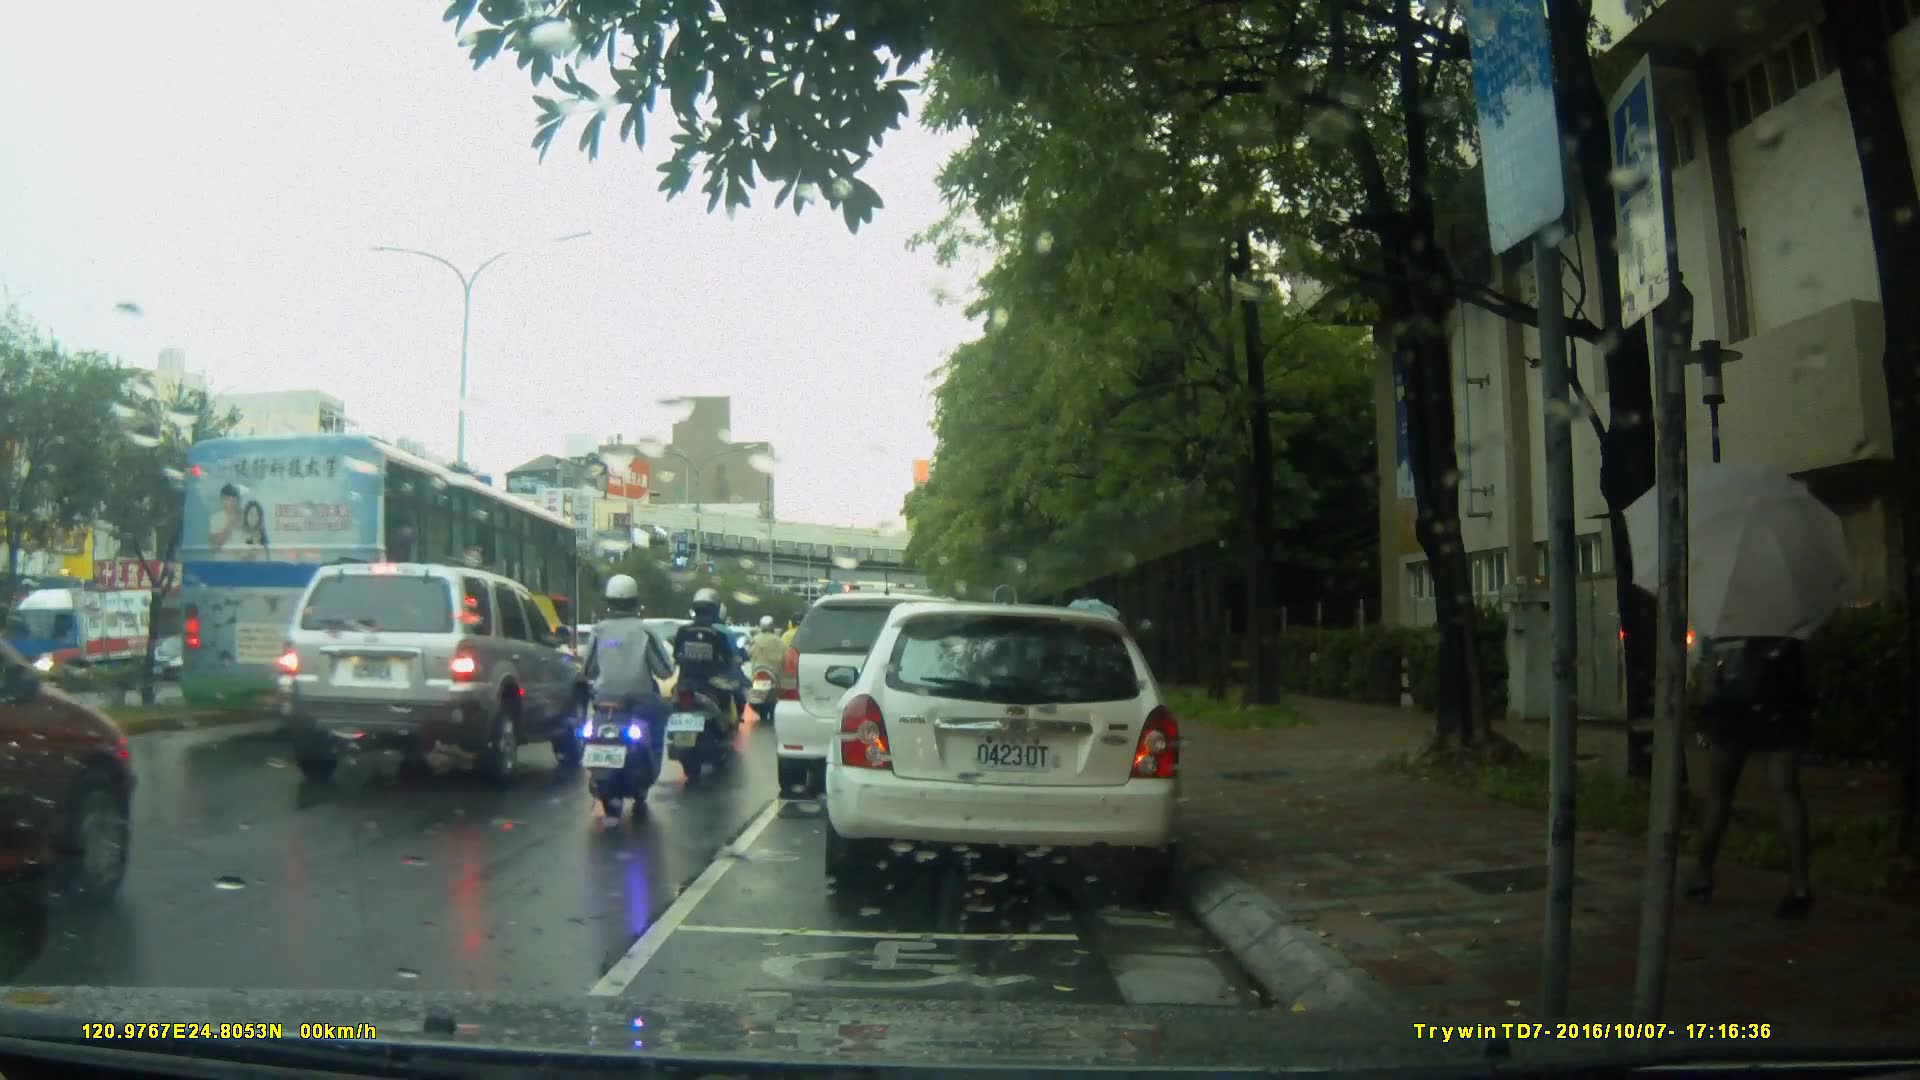pedestrian: (1702, 517, 1838, 920)
rider: (584, 571, 675, 815), (662, 586, 737, 788), (696, 599, 757, 738), (751, 611, 793, 726)
vehicle: (168, 430, 585, 739), (835, 594, 1194, 898), (274, 558, 596, 785), (776, 590, 1026, 784), (1, 586, 177, 699)
